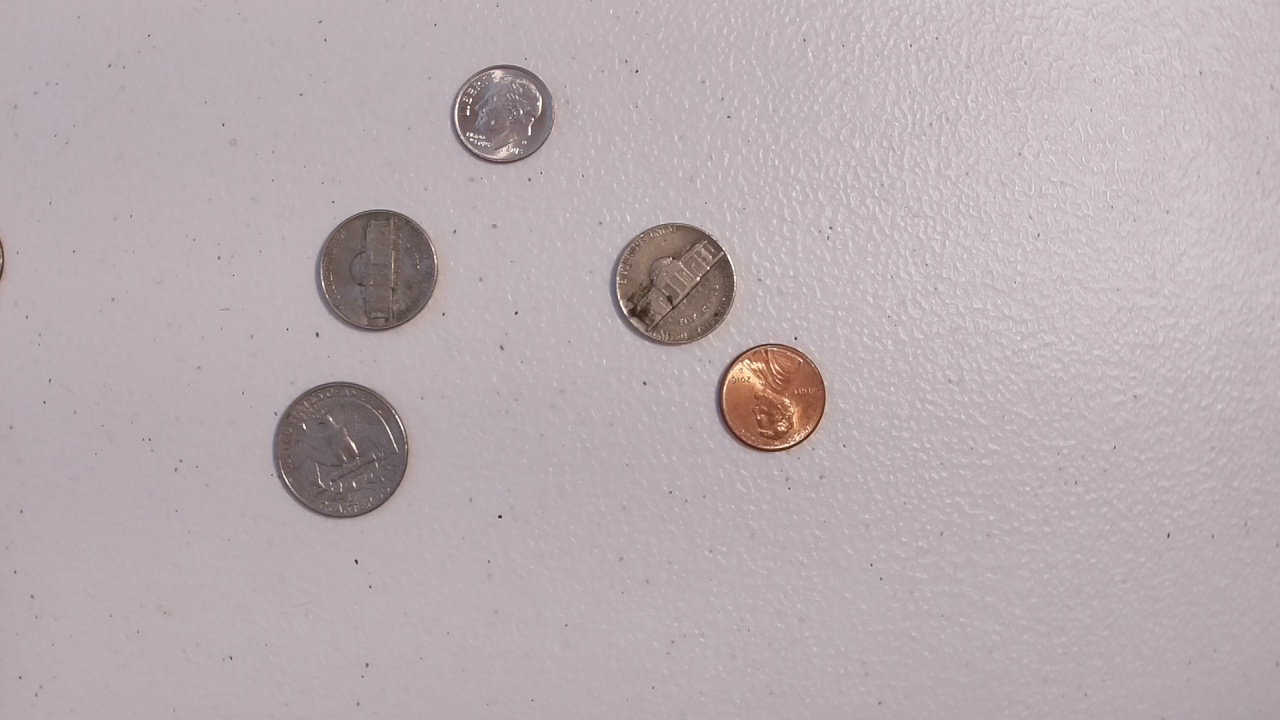dime: (446, 62, 560, 166)
nickel: (310, 205, 442, 337), (608, 220, 738, 346)
penny: (716, 340, 832, 456)
quarter: (273, 374, 409, 524)
